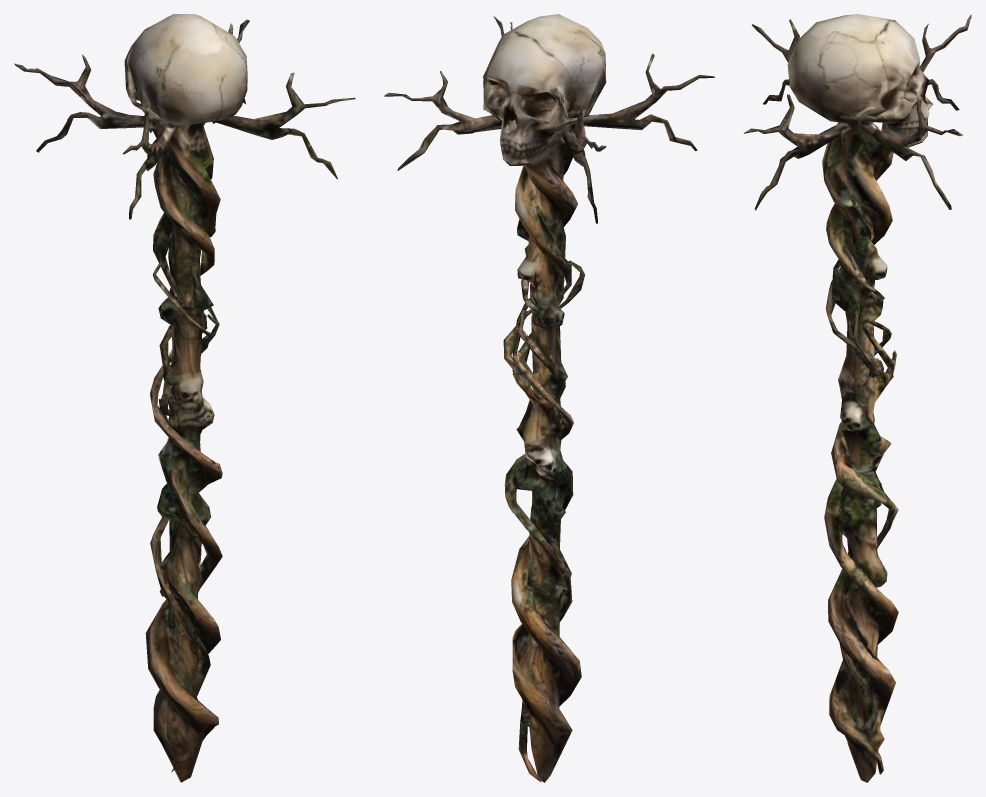
File: 1039_wand.glb
3 views of the same model, side by side, from view 1: azimuth 30°, elevation 25°; view 2: azimuth 150°, elevation 25°; view 3: azimuth 270°, elevation 25° (orthographic).
Parts seen in each view (by area): view 1: Model; view 2: Model; view 3: Model.
Part boxes in pixels (x1=…): Model: x1=14, y1=14, x2=355, y2=782; Model: x1=384, y1=14, x2=714, y2=782; Model: x1=743, y1=14, x2=971, y2=782.
Bounding box in the file's own units: 0.315 × 1 × 0.2697.
1 material, 1 textured.
